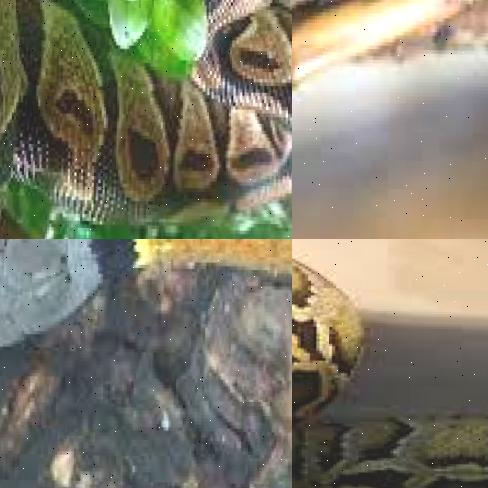2: (0, 239, 292, 388), (292, 0, 488, 122)
snake: (0, 0, 292, 239), (292, 239, 488, 488)
